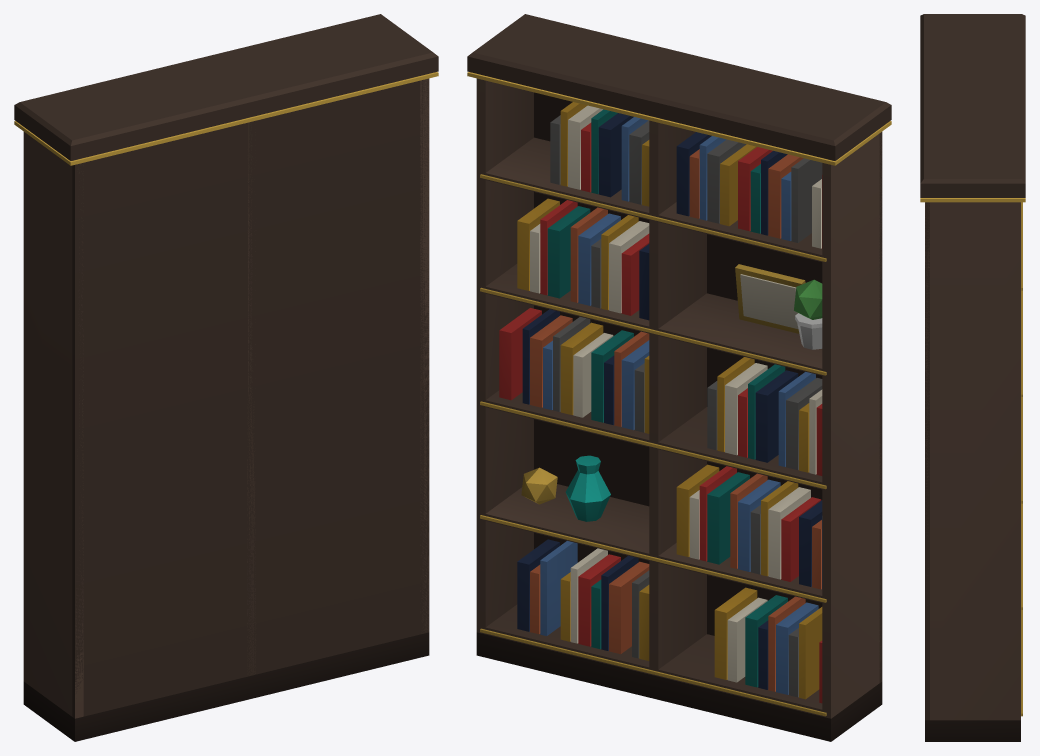
The model's file is bookshelf_tall_01.glb.
3 views of the same model, side by side, from view 1: azimuth 30°, elevation 25°; view 2: azimuth 150°, elevation 25°; view 3: azimuth 270°, elevation 25° (orthographic). The views are drawn at different scales.
Visible parts, largest first — view 1: bookshelf_tall_01_mesh; view 2: bookshelf_tall_01_mesh; view 3: bookshelf_tall_01_mesh.
Boxes of the visible parts, x1,y1,x2,y2 form: bookshelf_tall_01_mesh: [14, 14, 438, 741]; bookshelf_tall_01_mesh: [467, 14, 891, 741]; bookshelf_tall_01_mesh: [920, 14, 1025, 741].
Bounding box in the file's own units: 1.66 × 2.6 × 0.44.
2 materials, 2 textured.
